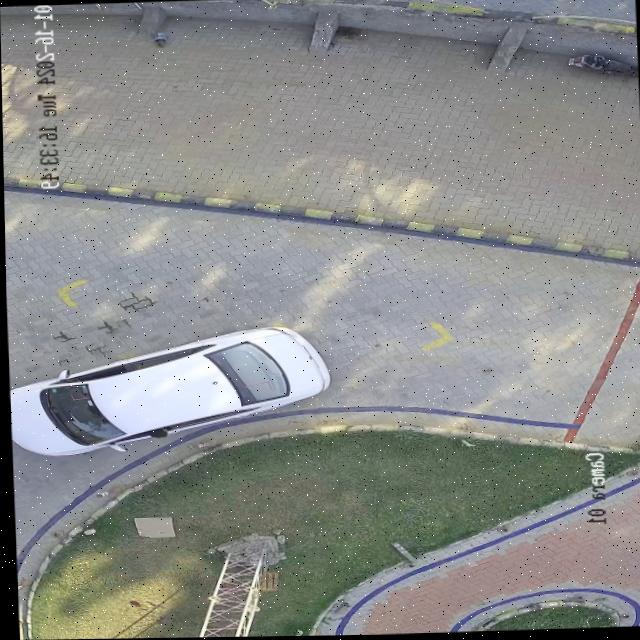car: (8, 326, 328, 455)
